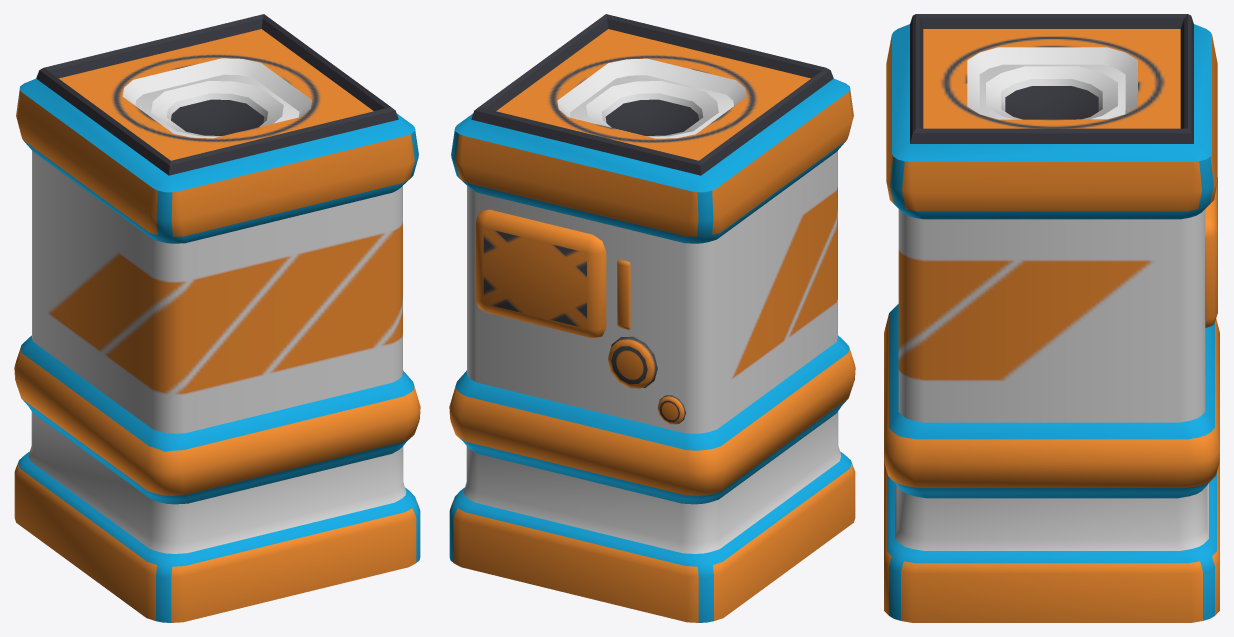
File: Generateur assietes.fbx
3 views of the same model, side by side, from view 1: azimuth 30°, elevation 25°; view 2: azimuth 150°, elevation 25°; view 3: azimuth 270°, elevation 25° (orthographic). The views are drawn at different scales.
Parts seen in each view (by area): view 1: generateur_assiettes; view 2: generateur_assiettes; view 3: generateur_assiettes.
Part boxes in pixels (x1,y1,x2,y2): generateur_assiettes: (14, 14, 420, 622); generateur_assiettes: (449, 14, 855, 622); generateur_assiettes: (884, 14, 1219, 622).
Bounding box in the file's own units: 24.47 × 38.63 × 24.47.
Materials: 1 (1 with a texture image).
